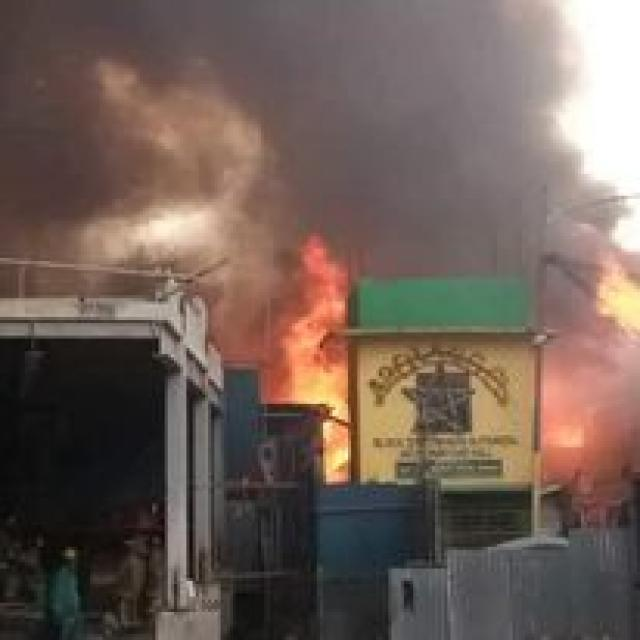Fire: (280, 225, 352, 402), (543, 343, 623, 459), (597, 257, 640, 329), (322, 407, 357, 467)
Smoke: (0, 0, 627, 305)
